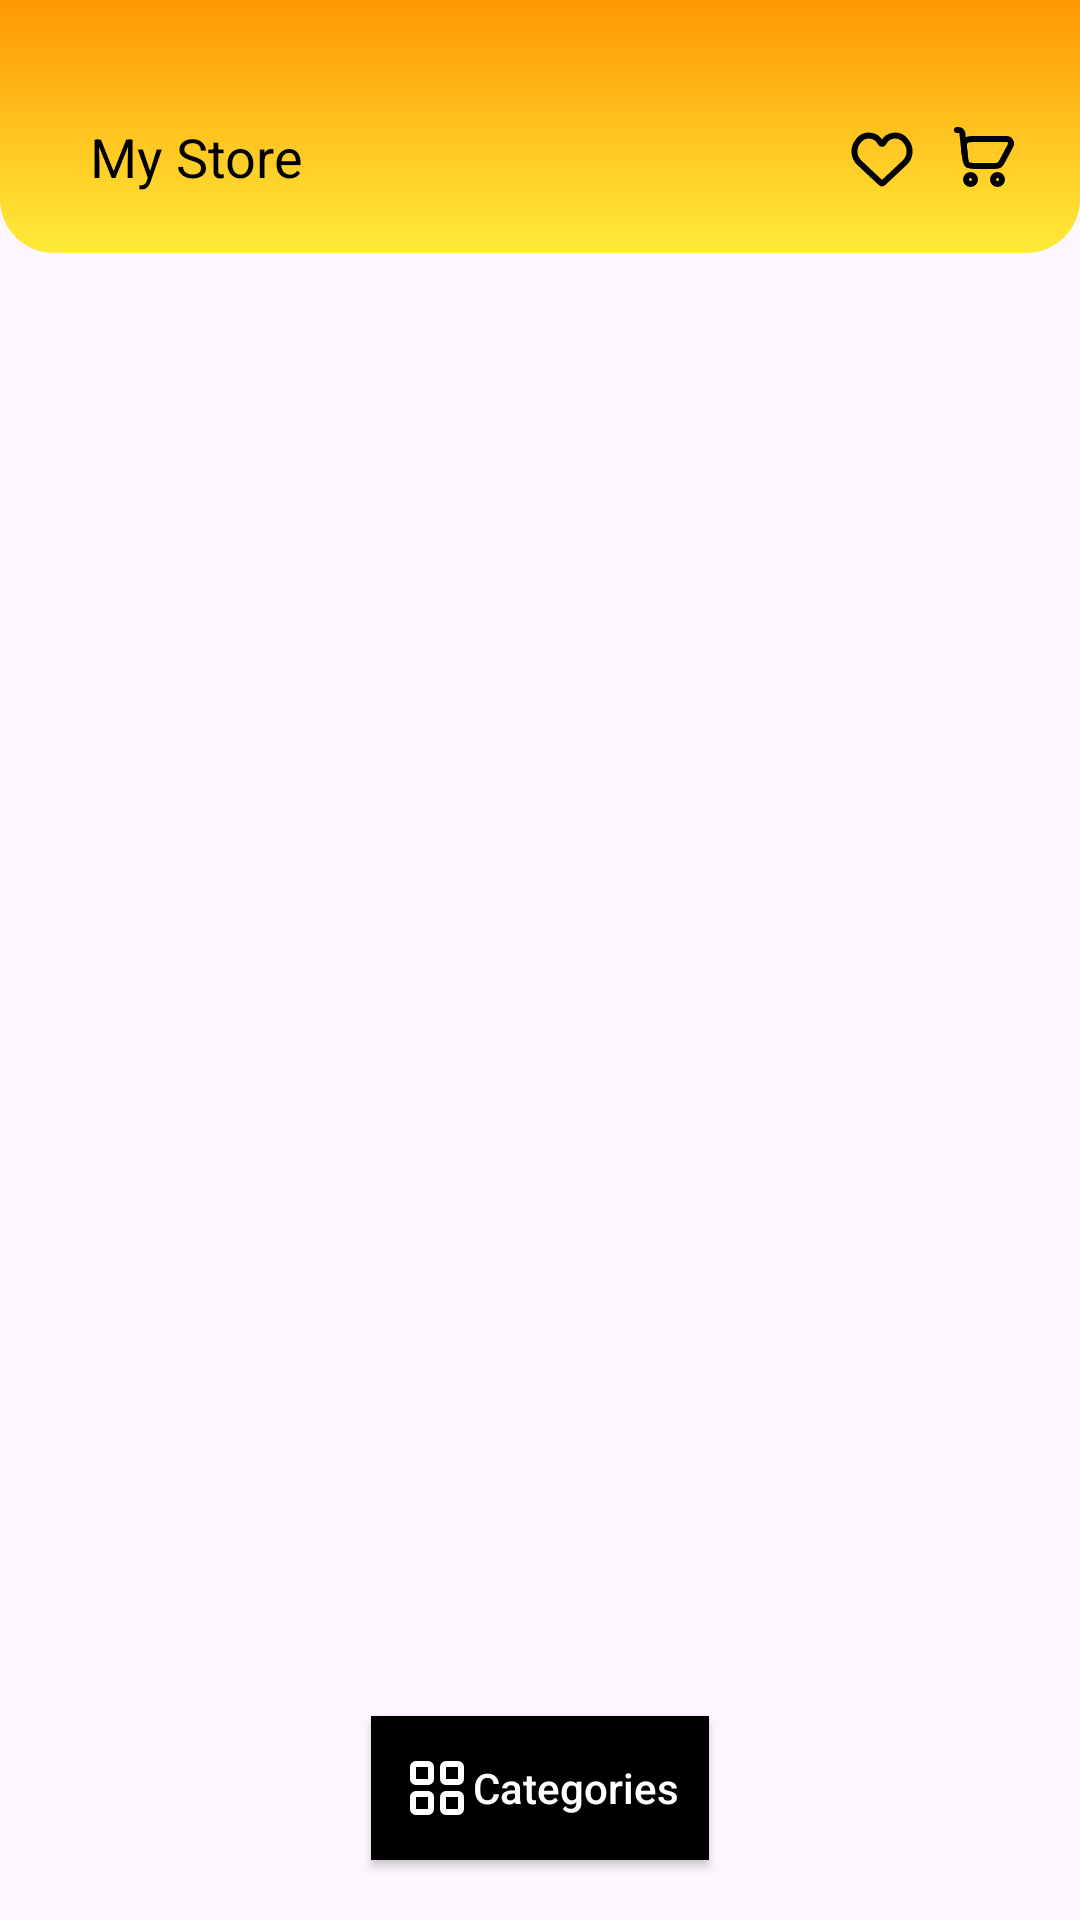

Screen size 1080x1920. Icon name, then its box in pixels as (x1, y1, x2, y2):
favorite: (846, 121, 918, 187)
shopping cart: (948, 121, 1020, 187)
